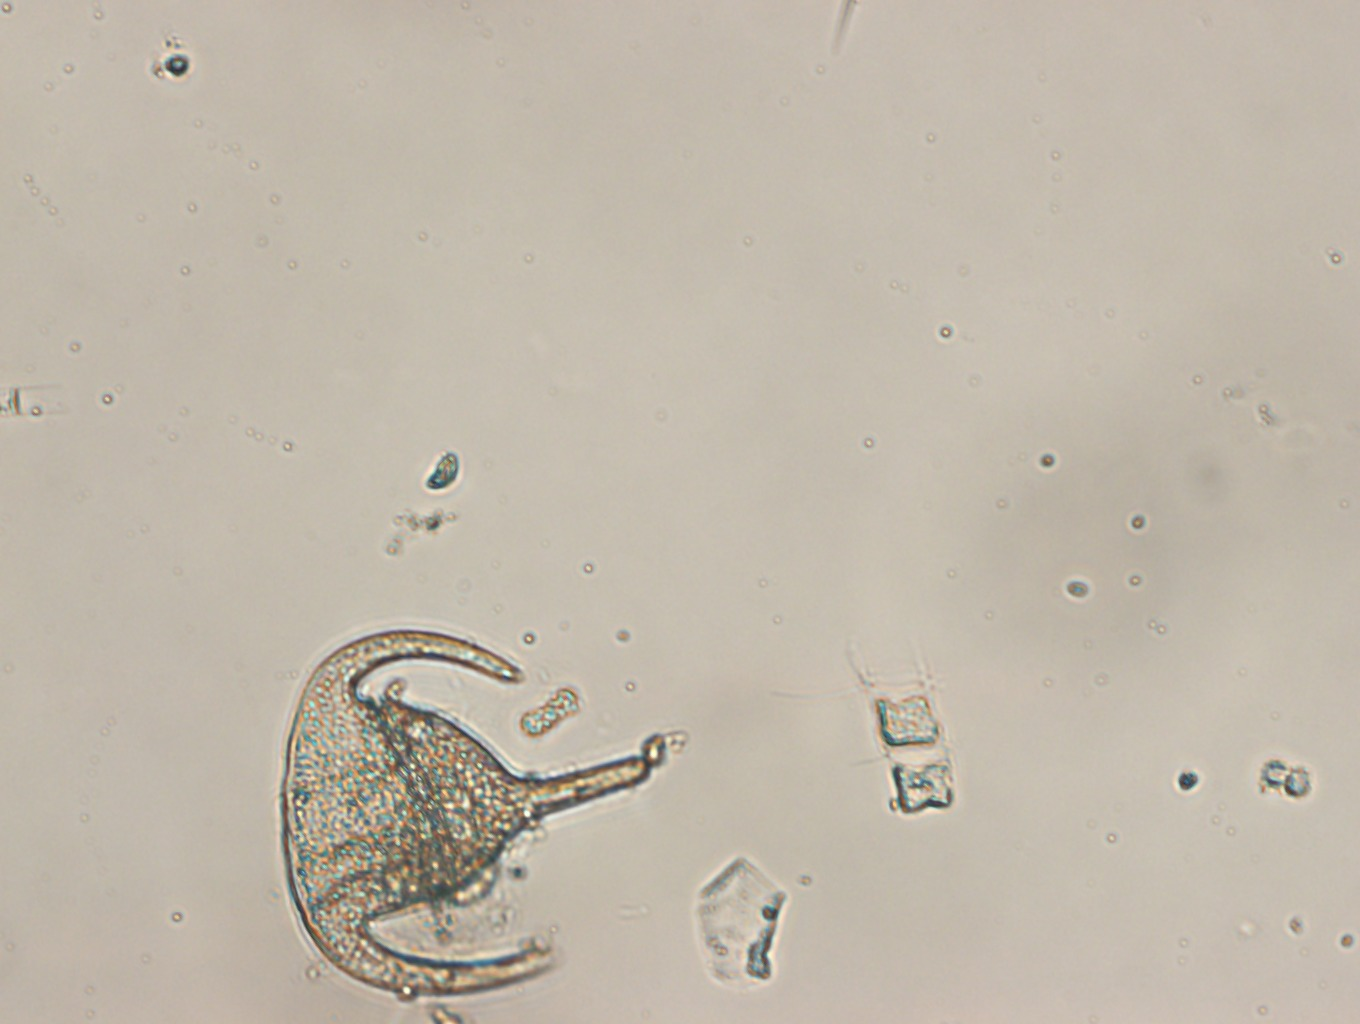ceratium tripos: (280, 628, 652, 997)
chaetoceros: (768, 630, 961, 817)
